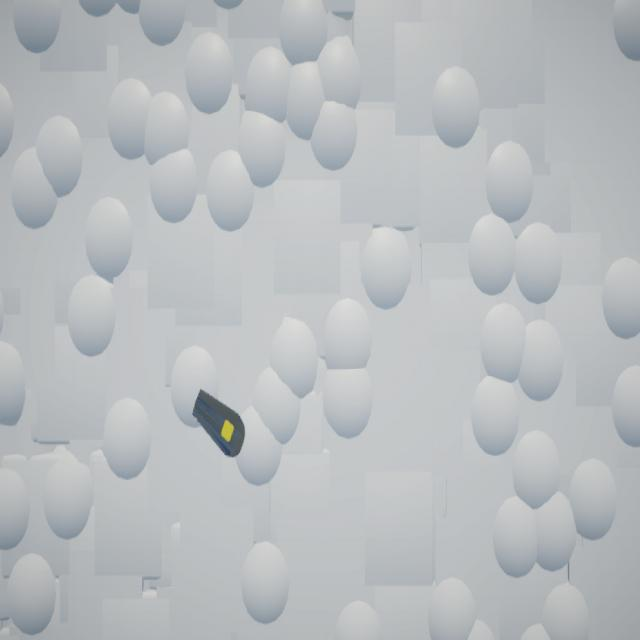handle_folk: (193, 390, 246, 458)
